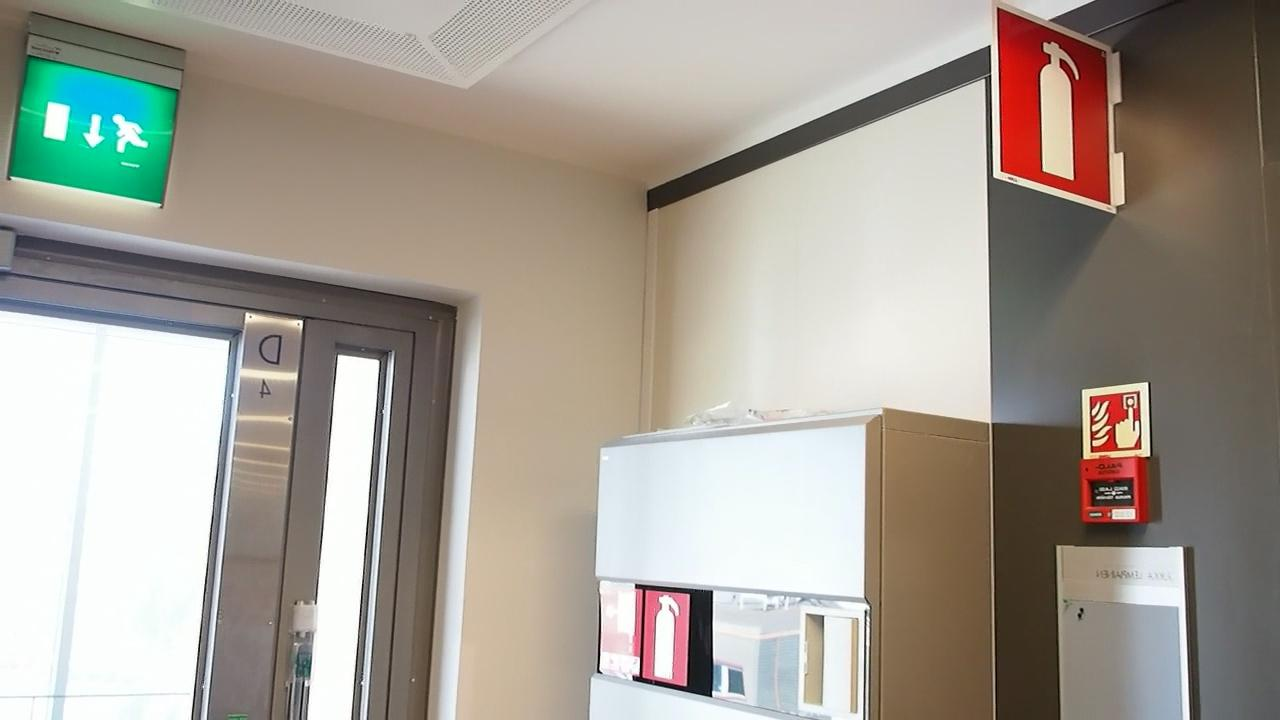exit: (10, 61, 170, 195)
fireextinguisher: (1003, 24, 1113, 190), (633, 590, 700, 686)
